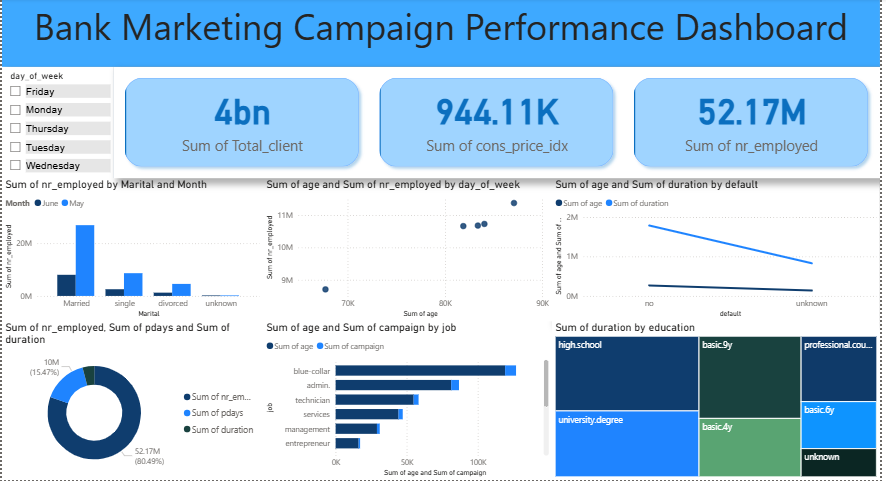

This screenshot's page, from the dashboard's own definition file:
{"tool":"powerbi","page":{"name":"Page 1","canvas":[1366,750],"ordinal":0},"visuals":[{"type":"textbox","box":[0,0,1366.2,107.4],"z":0},{"type":"slicer","fields":{"Values":["bank_additional_full.day_of_week"]},"box":[0,107.4,174.3,172.7],"z":1000},{"type":"clusteredColumnChart","fields":{"Y":["Sum(bank_additional_full.nr_employed)"],"Category":["bank_additional_full.Marital"],"Series":["bank_additional_full.Month"]},"box":[0,280.1,406.1,222.5],"z":2000},{"type":"barChart","fields":{"Category":["bank_additional_full.job"],"Y":["Sum(bank_additional_full.age)","Sum(bank_additional_full.campaign)"]},"box":[406.1,502.6,449.7,247.4],"z":3000},{"type":"lineChart","fields":{"Y":["Sum(bank_additional_full.age)","Sum(bank_additional_full.duration)"],"Category":["bank_additional_full.default"]},"box":[855.8,280.1,510.4,222.5],"z":4000},{"type":"donutChart","fields":{"Y":["Sum(bank_additional_full.nr_employed)","Sum(bank_additional_full.pdays)","Sum(bank_additional_full.duration)"]},"box":[0,502.6,406.1,247.4],"z":5000},{"type":"scatterChart","fields":{"X":["Sum(bank_additional_full.age)"],"Y":["Sum(bank_additional_full.nr_employed)"],"Category":["bank_additional_full.day_of_week"]},"box":[406.1,280.1,449.7,222.5],"z":6000},{"type":"treemap","fields":{"Group":["bank_additional_full.education"],"Values":["Sum(bank_additional_full.duration)"]},"box":[855.8,502.6,510.4,247.4],"z":7000},{"type":"cardVisual","fields":{"Data":["Sum(bank_additional_full.Total_client)","Sum(bank_additional_full.cons_price_idx)","Sum(bank_additional_full.nr_employed)"]},"box":[174.3,107.4,1191.9,172.7],"z":8000}]}

Visuals, with their boxes in screenshot pixels (x1, y1, x2, y2), scaled from the page's 1366x750 canvas onto the 886x481 screenshot:
textbox: BBox(0, 0, 885, 69)
slicer - bank_additional_full.day_of_week: BBox(0, 69, 113, 180)
clusteredColumnChart - Sum(bank_additional_full.nr_employed) x bank_additional_full.Marital: BBox(0, 180, 263, 322)
barChart - bank_additional_full.job x Sum(bank_additional_full.age): BBox(263, 322, 555, 480)
lineChart - Sum(bank_additional_full.age) x Sum(bank_additional_full.duration): BBox(555, 180, 885, 322)
donutChart - Sum(bank_additional_full.nr_employed) x Sum(bank_additional_full.pdays): BBox(0, 322, 263, 480)
scatterChart - Sum(bank_additional_full.age) x Sum(bank_additional_full.nr_employed): BBox(263, 180, 555, 322)
treemap - bank_additional_full.education x Sum(bank_additional_full.duration): BBox(555, 322, 885, 480)
cardVisual - Sum(bank_additional_full.Total_client) x Sum(bank_additional_full.cons_price_idx): BBox(113, 69, 885, 180)
